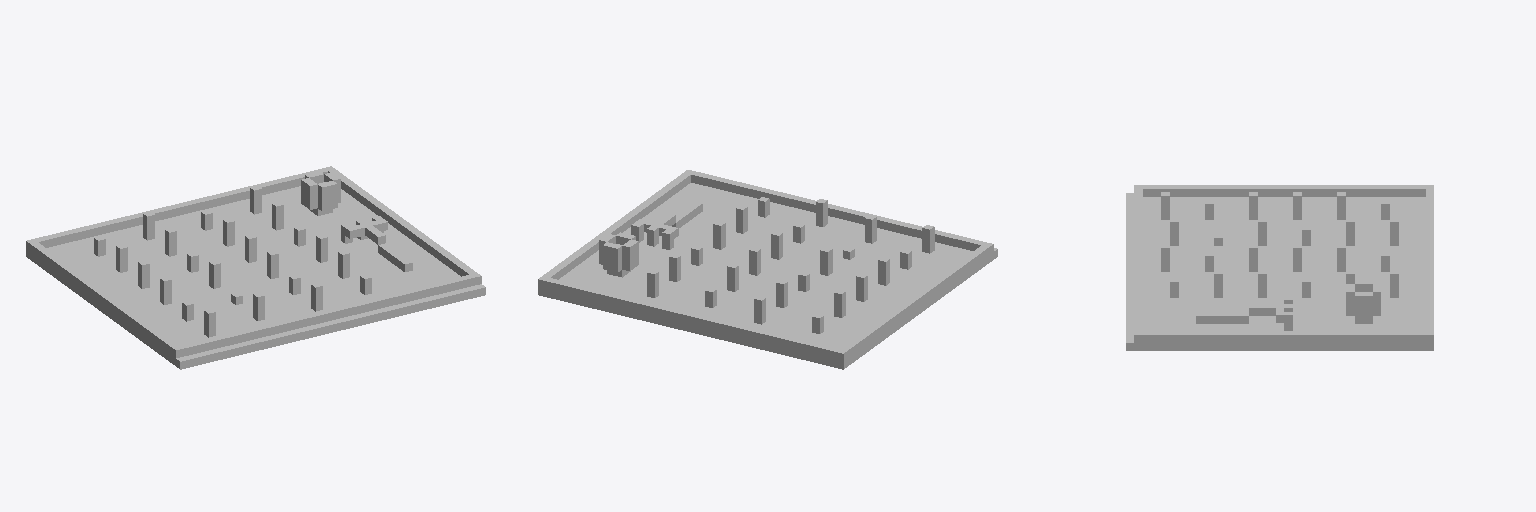
Rendered from farm.obj.
3 renders of one model, left to right at view 1: azimuth 30°, elevation 25°; view 2: azimuth 150°, elevation 25°; view 3: azimuth 270°, elevation 25°, orthographic.
Visible parts, largest first — view 1: object 1; view 2: object 1; view 3: object 1.
Boxes of the visible parts, x1,y1,x2,y2 form: object 1: [26, 166, 485, 369]; object 1: [538, 170, 997, 369]; object 1: [1126, 185, 1433, 350].
Size of the model in its own units: 4 by 0.5 by 3.5.